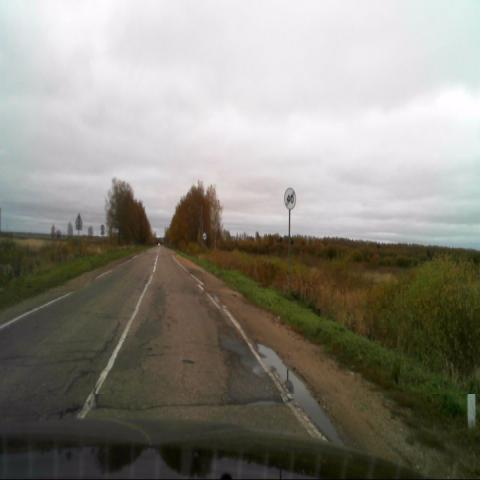3_25: (283, 187, 296, 210)
